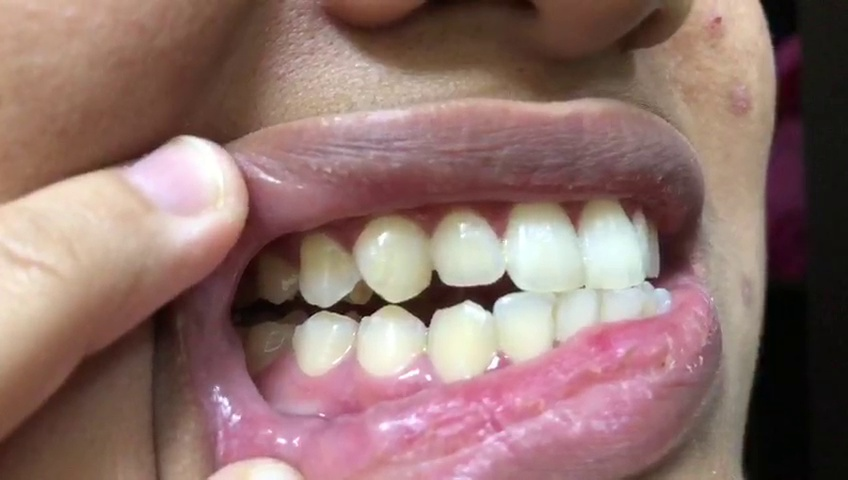1st Molar: (243, 321, 291, 374)
1st Premolar: (358, 305, 427, 380), (299, 230, 361, 309)
2nd Premolar: (293, 311, 357, 380), (258, 255, 299, 302)
Canine: (352, 215, 430, 304), (429, 300, 494, 381)
Central Incisor: (501, 200, 587, 292), (576, 192, 646, 288)
Lateral Incisor: (432, 207, 506, 288), (493, 293, 556, 367)
